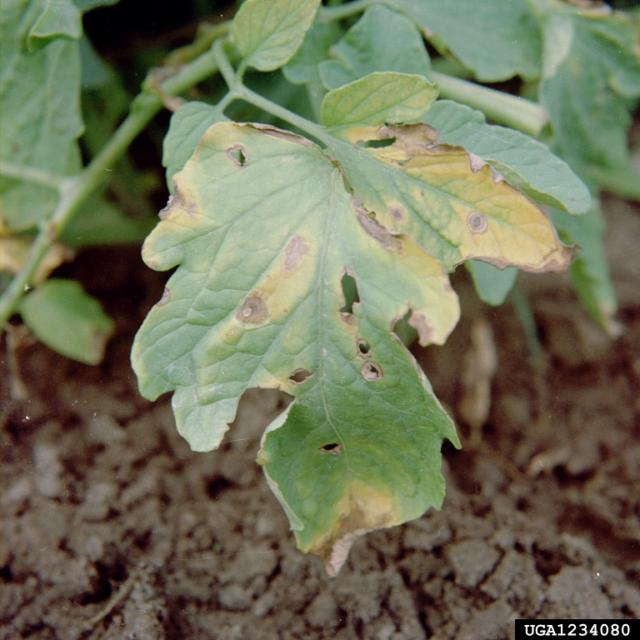Early_blight: (339, 121, 554, 221), (299, 479, 404, 579), (229, 229, 317, 336), (331, 264, 386, 384), (458, 236, 582, 279), (140, 170, 202, 237), (350, 194, 412, 257), (389, 300, 437, 364), (256, 364, 312, 394), (463, 205, 489, 236)
